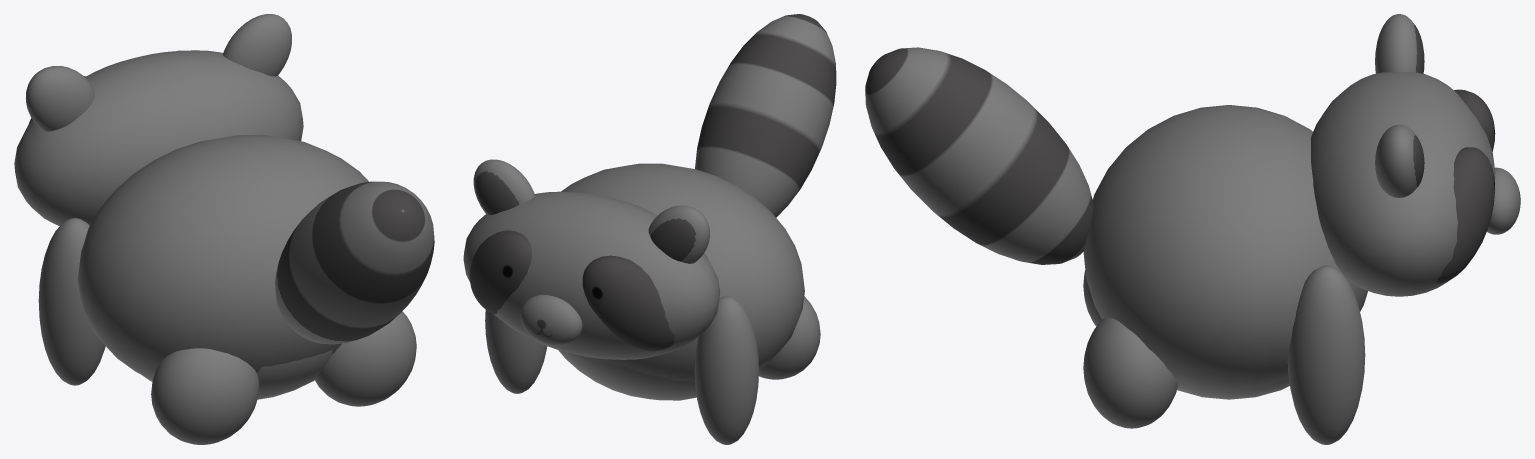
Rendered from raccoon_all_fours_help.fbx.
3 renders of one model, left to right at view 1: azimuth 30°, elevation 25°; view 2: azimuth 150°, elevation 25°; view 3: azimuth 270°, elevation 25°, orthographic. The views are drawn at different scales.
Parts seen in each view (by area): view 1: raccoon; view 2: raccoon; view 3: raccoon.
Part boxes in pixels (left/top/right/bottom): raccoon: left=14, top=14, right=434, bottom=444; raccoon: left=463, top=14, right=836, bottom=444; raccoon: left=865, top=14, right=1520, bottom=444.
Size of the model in its own units: 380 by 674 by 374.
